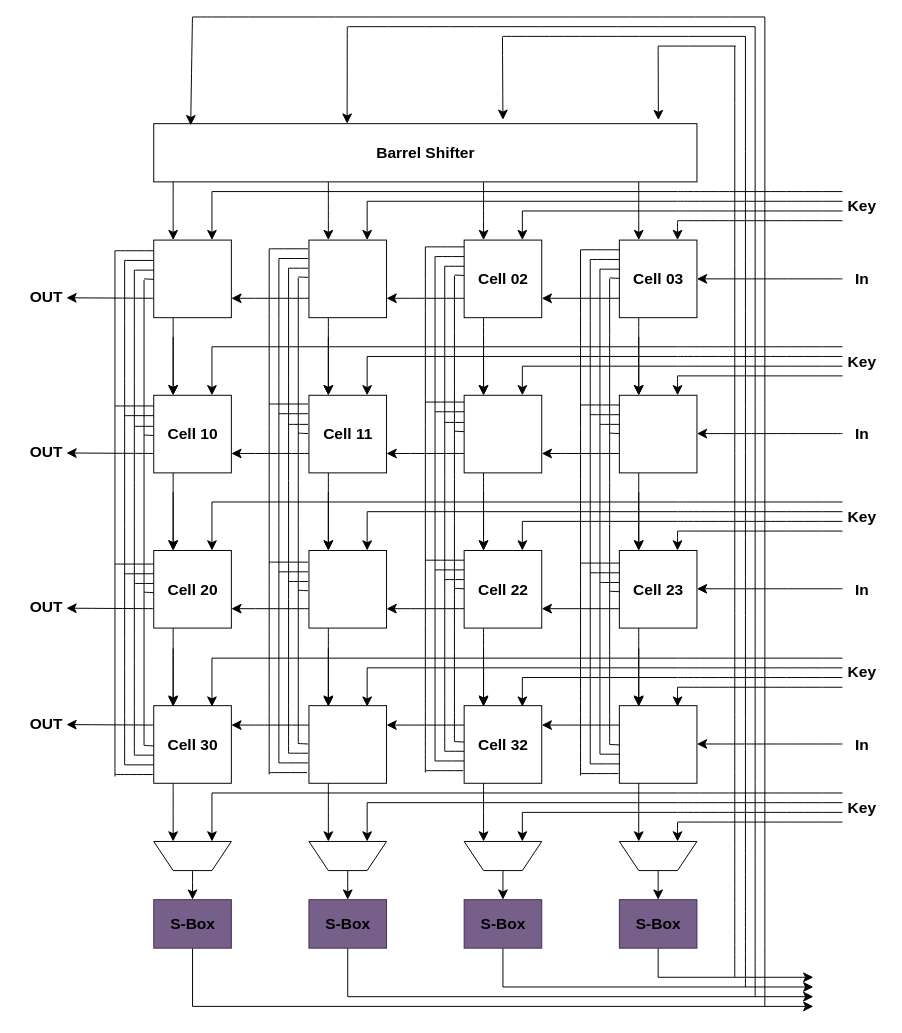
Image size: 902x1033. Some labels were removed from this diagram. Here are the shapes that lost their labels. From the top down, the box of each, then its label:
(153, 239, 231, 318): Cell 00
(308, 239, 387, 318): Cell 01
(463, 394, 542, 473): Cell 12
(618, 394, 697, 473): Cell 13
(308, 550, 387, 628): Cell 21
(308, 705, 387, 783): Cell 31
(618, 705, 697, 783): Cell 33
